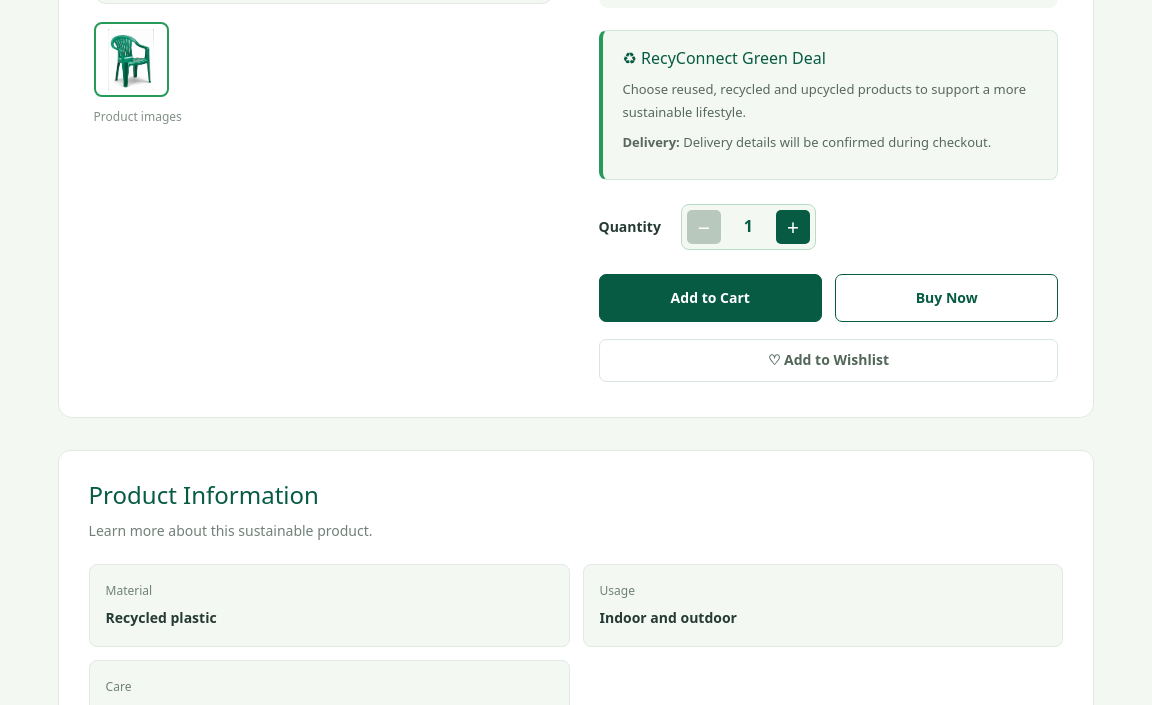
Scenario: ProductDetails Component › Wishlist Functionality › removes the product from wishlist when clicked again
(page scrolled)
Click the button with class "details-wishlist" at (828, 361), box left=598, top=339, right=1058, bottom=382
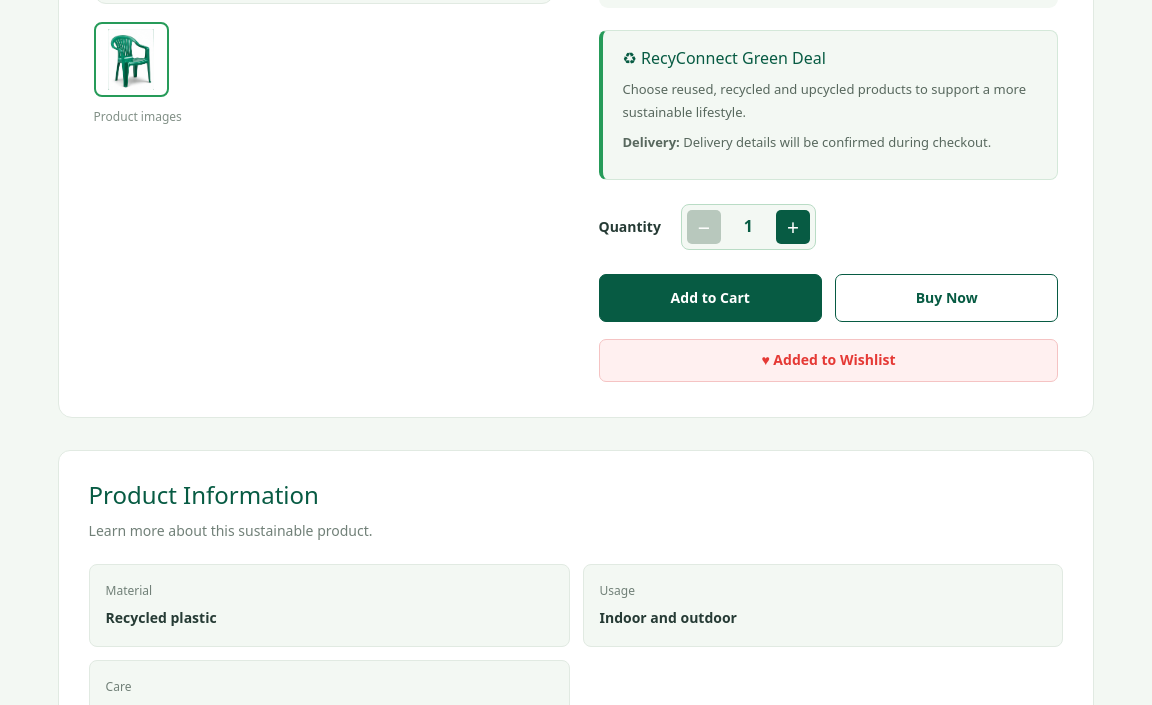
Click the button with class "details-wishlist" at (828, 361), box left=598, top=339, right=1058, bottom=382
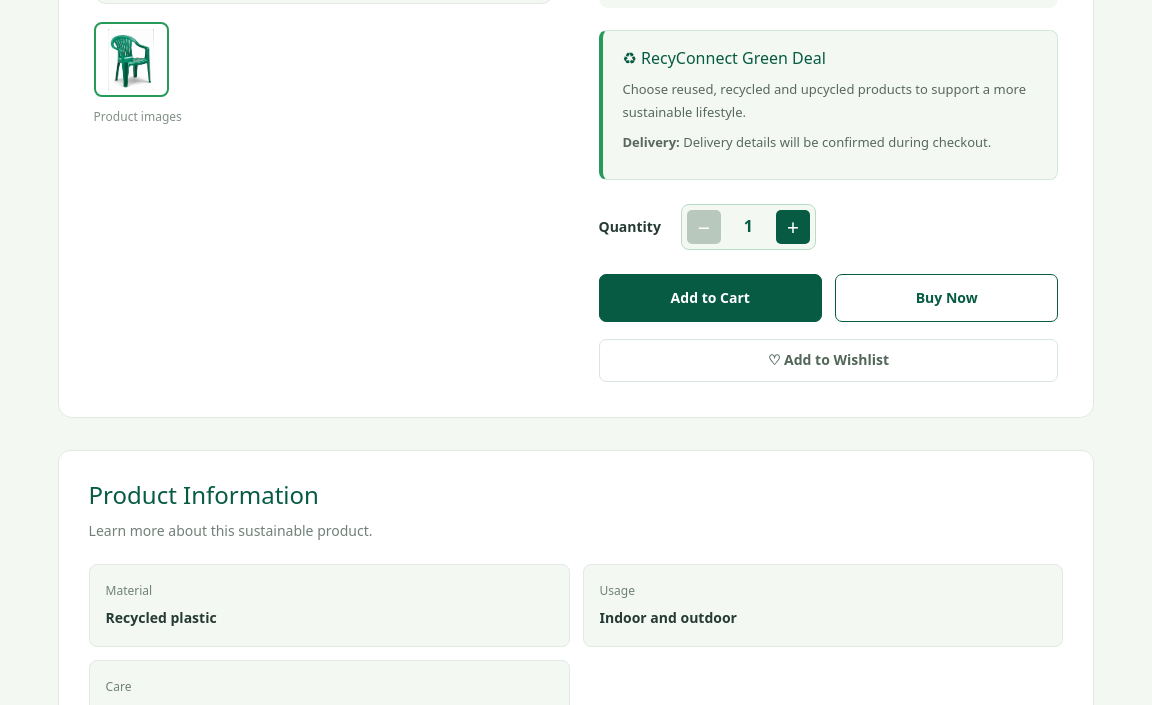
Result: the button with class "details-wishlist" shows "Add to Wishlist" at left=598, top=339, right=1058, bottom=382
